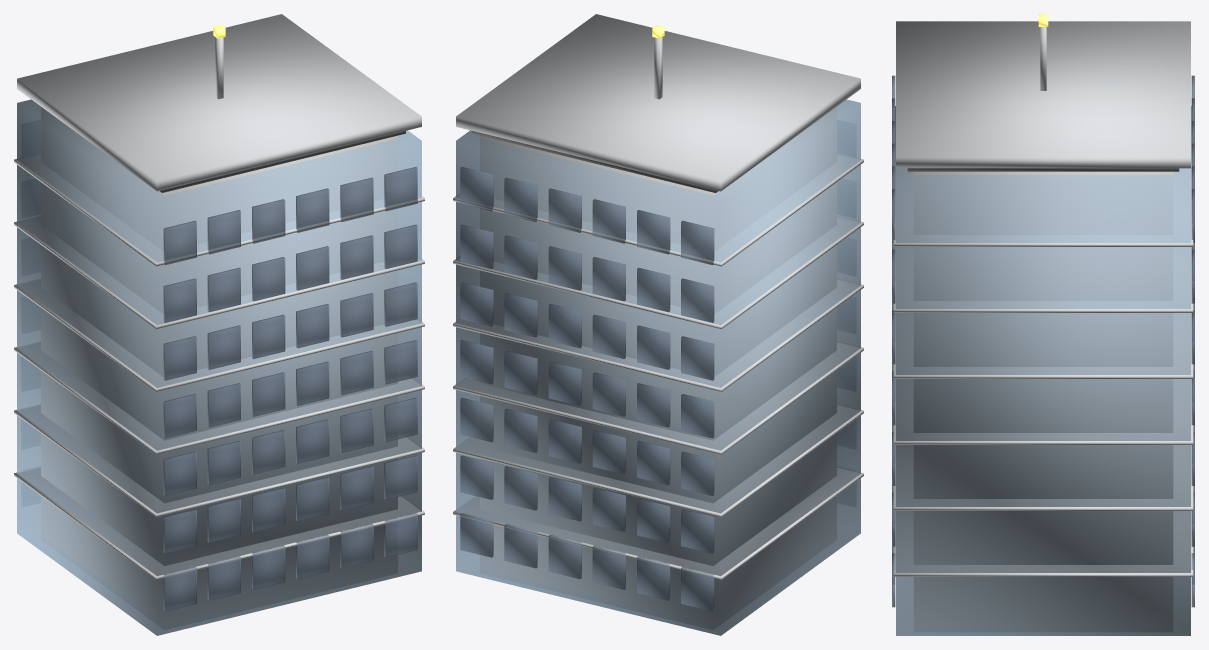
File: sky-tower-c.glb
The picture shows the model from 3 angles, left to right: view 1: azimuth 30°, elevation 25°; view 2: azimuth 150°, elevation 25°; view 3: azimuth 270°, elevation 25°; orthographic projection. The views are drawn at different scales.
Visible parts, largest first — view 1: CC_SkyTowerC_Shell, CC_SkyTowerC_Body, CC_SkyTowerC_Windows, CC_SkyTowerC_Parapet, CC_SkyTowerC_Ribs, CC_SkyTowerC_Roof; view 2: CC_SkyTowerC_Shell, CC_SkyTowerC_Body, CC_SkyTowerC_N_Windows, CC_SkyTowerC_Parapet, CC_SkyTowerC_Ribs, CC_SkyTowerC_Roof; view 3: CC_SkyTowerC_Shell, CC_SkyTowerC_Body, CC_SkyTowerC_Parapet, CC_SkyTowerC_Ribs, CC_SkyTowerC_N_Windows, CC_SkyTowerC_Windows, CC_SkyTowerC_Roof, CC_SkyTowerC_Antenna.
Boxes of the visible parts, x1,y1,x2,y2 form: CC_SkyTowerC_Shell: [17, 99, 421, 635]; CC_SkyTowerC_Body: [41, 107, 397, 625]; CC_SkyTowerC_Windows: [163, 167, 417, 611]; CC_SkyTowerC_Parapet: [17, 14, 421, 191]; CC_SkyTowerC_Ribs: [14, 154, 424, 579]; CC_SkyTowerC_Roof: [159, 131, 405, 192]; CC_SkyTowerC_Shell: [456, 99, 860, 635]; CC_SkyTowerC_Body: [480, 107, 836, 625]; CC_SkyTowerC_N_Windows: [460, 167, 714, 611]; CC_SkyTowerC_Parapet: [456, 14, 860, 191]; CC_SkyTowerC_Ribs: [453, 154, 863, 579]; CC_SkyTowerC_Roof: [472, 131, 718, 192]; CC_SkyTowerC_Shell: [896, 168, 1190, 635]; CC_SkyTowerC_Body: [913, 171, 1173, 627]; CC_SkyTowerC_Parapet: [896, 21, 1190, 168]; CC_SkyTowerC_Ribs: [893, 106, 1193, 576]; CC_SkyTowerC_N_Windows: [1191, 75, 1194, 607]; CC_SkyTowerC_Windows: [892, 75, 895, 607]; CC_SkyTowerC_Roof: [907, 168, 1179, 171]; CC_SkyTowerC_Antenna: [1040, 27, 1046, 90].
Size of the model in its own units: 6.08 by 11.44 by 5.64.
